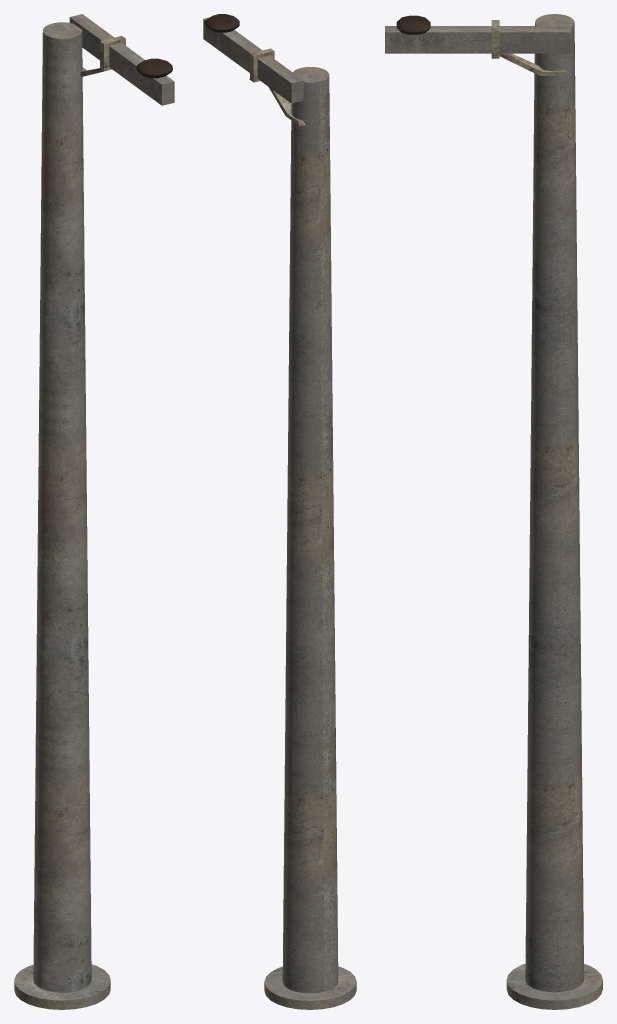
Rendered from E_Pole02.fbx.
The picture shows the model from 3 angles, left to right: view 1: azimuth 30°, elevation 25°; view 2: azimuth 210°, elevation 25°; view 3: azimuth 270°, elevation 25°; orthographic projection. The views are drawn at different scales.
Parts seen in each view (by area): view 1: Cylinder (25); view 2: Cylinder (25); view 3: Cylinder (25).
Boxes of the visible parts, x1=… form: Cylinder (25): x1=14, y1=14, x2=174, y2=1009; Cylinder (25): x1=203, y1=14, x2=356, y2=1009; Cylinder (25): x1=385, y1=14, x2=602, y2=1009.
Size of the model in its own units: 79.86 by 883 by 178.
